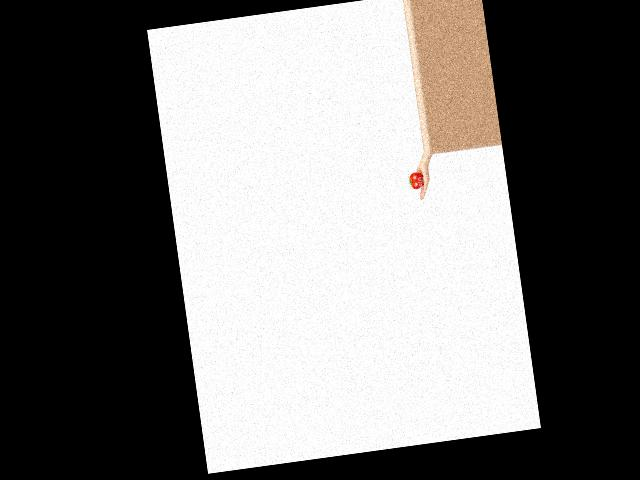tomato: (408, 171, 424, 190)
